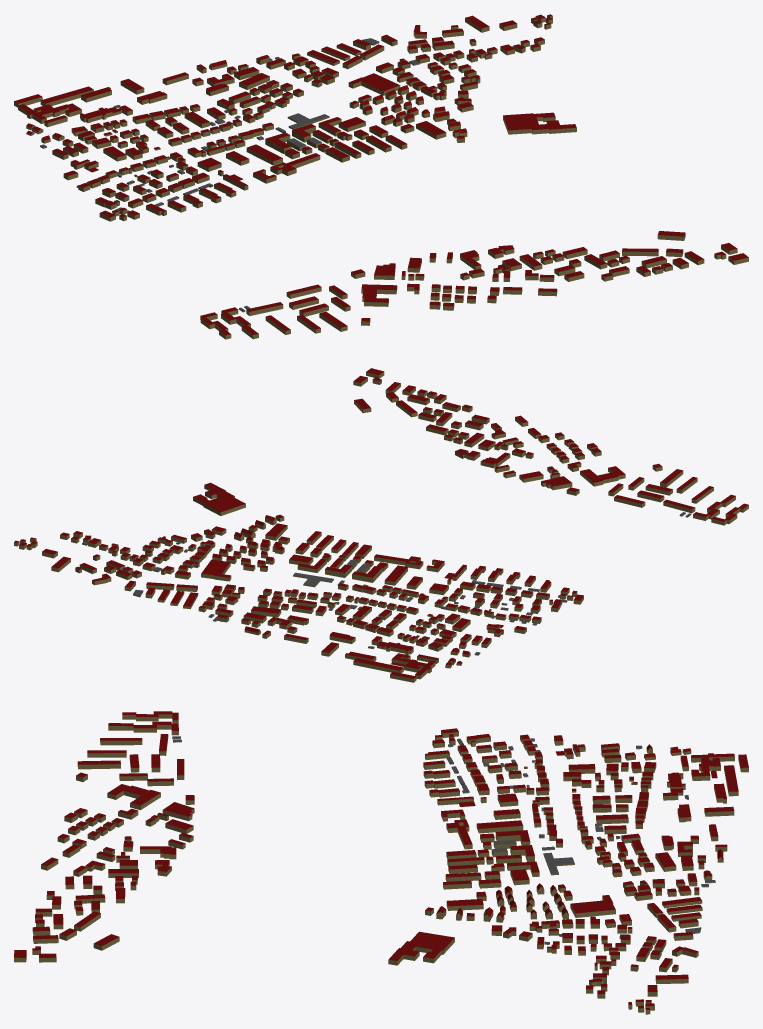
The model's file is Ingolstadt_Tile_8_8.obj.
3 views of the same model, one above another, from view 1: azimuth 30°, elevation 25°; view 2: azimuth 150°, elevation 25°; view 3: azimuth 270°, elevation 25° (orthographic). The views are drawn at different scales.
Visible parts, largest first — view 1: Building Bezirksportanlage Nord-Ost, Building459, Building244, Building181; view 2: Building Bezirksportanlage Nord-Ost, Building244; view 3: Building Bezirksportanlage Nord-Ost, Building244, Building181, Building459.
Boxes of the visible parts, <box> form: Building Bezirksportanlage Nord-Ost: <box>504,116,576,134</box>; Building459: <box>18,103,81,123</box>; Building244: <box>361,284,397,306</box>; Building181: <box>348,73,400,95</box>; Building Bezirksportanlage Nord-Ost: <box>204,482,245,514</box>; Building244: <box>580,466,625,486</box>; Building Bezirksportanlage Nord-Ost: <box>388,931,447,965</box>; Building244: <box>107,784,160,810</box>; Building181: <box>570,895,615,917</box>; Building459: <box>691,753,734,780</box>.
Size of the model in its own units: 1057 by 12.5 by 1099.
